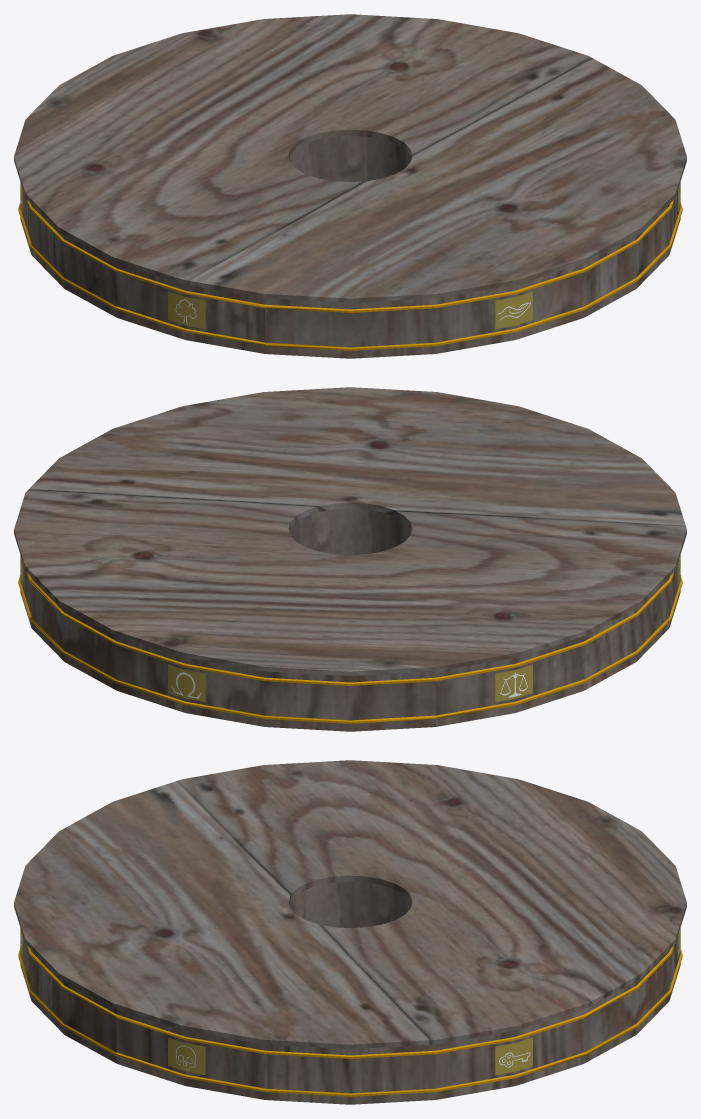
File: Mesh_CoffeeTable_Segments.fbx
3 views of the same model, one above another, from view 1: azimuth 30°, elevation 25°; view 2: azimuth 150°, elevation 25°; view 3: azimuth 270°, elevation 25° (orthographic).
Visible parts, largest first — view 1: mesh_Table_Top_Segment_2, mesh_Table_Top_Segment_1, mesh_Table_Top_Segment_4, mesh_Table_Top_Segment_3, mesh_Symbol_Legacy5, mesh_Symbol_Legacy; view 2: mesh_Table_Top_Segment_4, mesh_Table_Top_Segment_1, mesh_Table_Top_Segment_2, mesh_Table_Top_Segment_3, mesh_Symbol_Science, mesh_Symbol_Ethics; view 3: mesh_Table_Top_Segment_3, mesh_Table_Top_Segment_2, mesh_Table_Top_Segment_4, mesh_Table_Top_Segment_1, mesh_Symbol_Death, mesh_Symbol_Secrecy.
Boxes of the visible parts, x1,y1,x2,y2 form: mesh_Table_Top_Segment_2: [263, 162, 675, 358]; mesh_Table_Top_Segment_1: [14, 119, 333, 353]; mesh_Table_Top_Segment_4: [26, 14, 437, 182]; mesh_Table_Top_Segment_3: [366, 19, 686, 254]; mesh_Symbol_Legacy5: [168, 291, 205, 329]; mesh_Symbol_Legacy: [495, 291, 532, 329]; mesh_Table_Top_Segment_4: [25, 535, 437, 731]; mesh_Table_Top_Segment_1: [367, 492, 686, 726]; mesh_Table_Top_Segment_2: [263, 387, 674, 555]; mesh_Table_Top_Segment_3: [14, 392, 334, 627]; mesh_Symbol_Science: [168, 664, 205, 702]; mesh_Symbol_Ethics: [495, 664, 532, 702]; mesh_Table_Top_Segment_3: [112, 920, 588, 1104]; mesh_Table_Top_Segment_2: [14, 802, 306, 1063]; mesh_Table_Top_Segment_4: [394, 802, 686, 1063]; mesh_Table_Top_Segment_1: [113, 760, 587, 928]; mesh_Symbol_Death: [168, 1037, 205, 1075]; mesh_Symbol_Secrecy: [495, 1037, 532, 1075].
Bounding box in the file's own units: 83.79 × 8.7 × 83.79.
